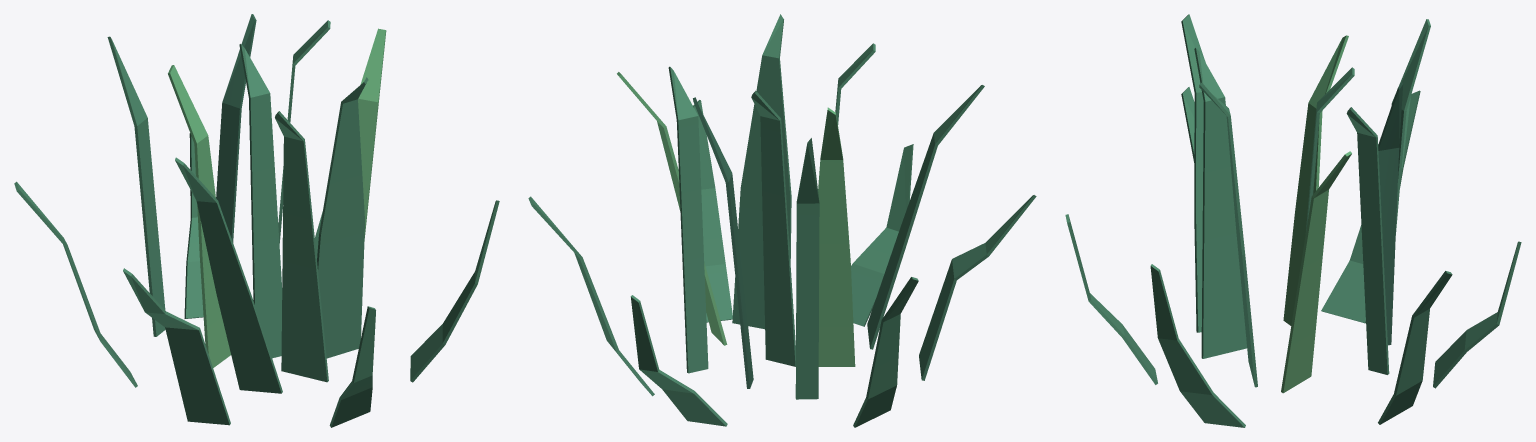
File: Grass_Clump_01.fbx
3 views of the same model, side by side, from view 1: azimuth 30°, elevation 25°; view 2: azimuth 150°, elevation 25°; view 3: azimuth 270°, elevation 25° (orthographic).
Visible parts, largest first — view 1: Grass.004, Grass.003, Grass_Clump_01, Grass.008, Grass.009, Grass.002, Grass.007, Grass.006, Grass.001, Grass.013, Grass.012, Grass.014 (+2 smaller); view 2: Grass.002, Grass_Clump_01, Grass.004, Grass.005, Grass.007, Grass.013, Grass.010, Grass.012, Grass.008, Grass.014, Grass.009, Grass.006 (+3 smaller); view 3: Grass.003, Grass.005, Grass.001, Grass.012, Grass.002, Grass.006, Grass.011, Grass.008, Grass.010, Grass.004, Grass.014, Grass.007 (+3 smaller).
Boxes of the visible parts, x1=… form: Grass.004: x1=317, y1=77, x2=368, y2=358; Grass.003: x1=275, y1=111, x2=328, y2=382; Grass_Clump_01: x1=239, y1=44, x2=282, y2=358; Grass.008: x1=175, y1=157, x2=282, y2=393; Grass.009: x1=123, y1=268, x2=230, y2=425; Grass.002: x1=168, y1=65, x2=230, y2=367; Grass.007: x1=107, y1=36, x2=165, y2=336; Grass.006: x1=216, y1=14, x2=256, y2=242; Grass.001: x1=358, y1=28, x2=386, y2=241; Grass.013: x1=329, y1=306, x2=375, y2=427; Grass.012: x1=410, y1=200, x2=499, y2=382; Grass.014: x1=184, y1=133, x2=203, y2=318; Grass.002: x1=818, y1=107, x2=855, y2=366; Grass_Clump_01: x1=751, y1=90, x2=795, y2=366; Grass.004: x1=732, y1=14, x2=791, y2=329; Grass.005: x1=668, y1=66, x2=708, y2=373; Grass.007: x1=795, y1=138, x2=819, y2=399; Grass.013: x1=851, y1=144, x2=913, y2=326; Grass.010: x1=853, y1=277, x2=918, y2=427; Grass.012: x1=693, y1=100, x2=732, y2=322; Grass.008: x1=867, y1=85, x2=984, y2=349; Grass.014: x1=630, y1=295, x2=727, y2=426; Grass.009: x1=919, y1=195, x2=1036, y2=380; Grass.006: x1=693, y1=97, x2=753, y2=388; Grass.003: x1=1194, y1=48, x2=1246, y2=358; Grass.005: x1=1346, y1=107, x2=1389, y2=374; Grass.001: x1=1281, y1=151, x2=1351, y2=393; Grass.012: x1=1150, y1=264, x2=1245, y2=427; Grass.002: x1=1283, y1=35, x2=1348, y2=325; Grass.006: x1=1378, y1=82, x2=1403, y2=345; Grass.011: x1=1378, y1=271, x2=1452, y2=424; Grass.008: x1=1181, y1=14, x2=1205, y2=332; Grass.010: x1=1321, y1=90, x2=1420, y2=323; Grass.004: x1=1199, y1=82, x2=1257, y2=387; Grass.014: x1=1433, y1=241, x2=1521, y2=388; Grass.007: x1=1391, y1=19, x2=1430, y2=235.
Bounding box in the file's own units: 1.39 × 1.11 × 1.44.
